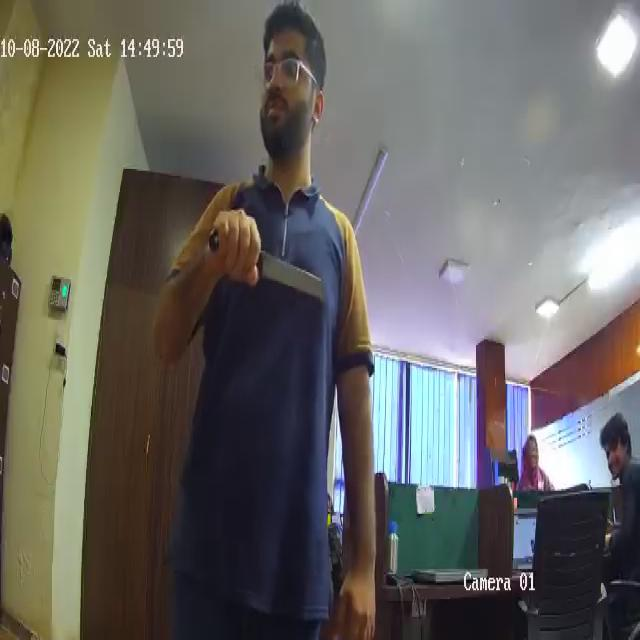Knife: (207, 228, 323, 308)
